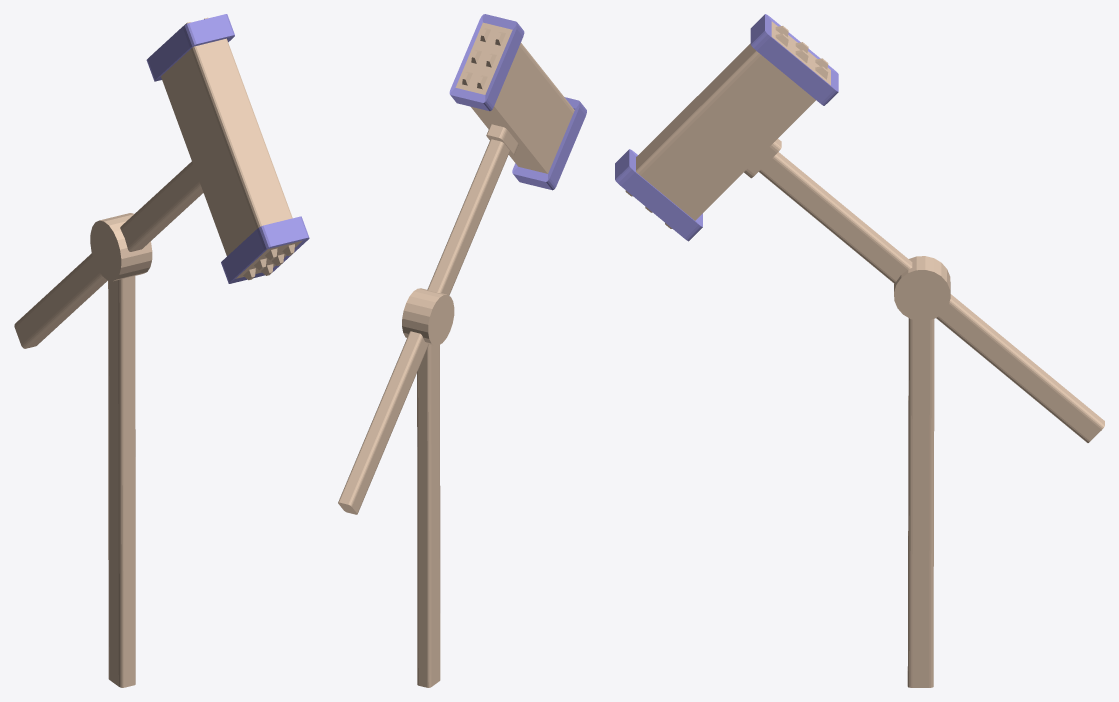
Rendered from hammer.fbx.
3 renders of one model, left to right at view 1: azimuth 30°, elevation 25°; view 2: azimuth 150°, elevation 25°; view 3: azimuth 270°, elevation 25°, orthographic. The views are drawn at different scales.
Visible parts, largest first — view 1: hammer-baş, Cube.003; view 2: hammer-baş, Cube.003; view 3: hammer-baş, Cube.003.
Boxes of the visible parts, box(x1,y1,x2,y2) form: hammer-baş: box(14, 14, 309, 348); Cube.003: box(108, 276, 135, 687); hammer-baş: box(338, 14, 586, 514); Cube.003: box(417, 344, 440, 687); hammer-baş: box(615, 14, 1104, 442); Cube.003: box(907, 318, 934, 687).
Size of the model in its own units: 115 by 1824 by 1223.
